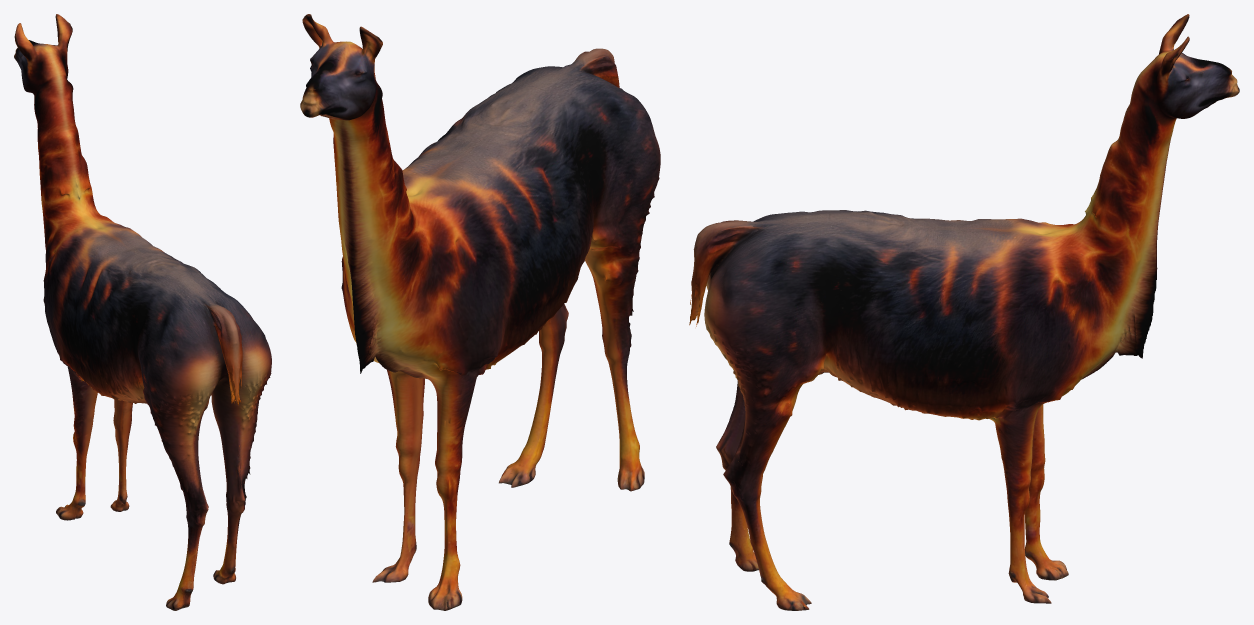
File: lama_lava.glb
3 views of the same model, side by side, from view 1: azimuth 30°, elevation 25°; view 2: azimuth 150°, elevation 25°; view 3: azimuth 270°, elevation 25° (orthographic). The views are drawn at different scales.
Parts seen in each view (by area): view 1: tripo_node_e91d547f-ef7d-4fdb-b790-12eabd7be59f; view 2: tripo_node_e91d547f-ef7d-4fdb-b790-12eabd7be59f; view 3: tripo_node_e91d547f-ef7d-4fdb-b790-12eabd7be59f.
Part boxes in pixels (box(x1,y1,x2,y2)): tripo_node_e91d547f-ef7d-4fdb-b790-12eabd7be59f: box(14, 14, 271, 610); tripo_node_e91d547f-ef7d-4fdb-b790-12eabd7be59f: box(300, 14, 660, 610); tripo_node_e91d547f-ef7d-4fdb-b790-12eabd7be59f: box(689, 14, 1239, 610).
Bounding box in the file's own units: 0.2602 × 1 × 0.8854.
Materials: 1 (1 with a texture image).
